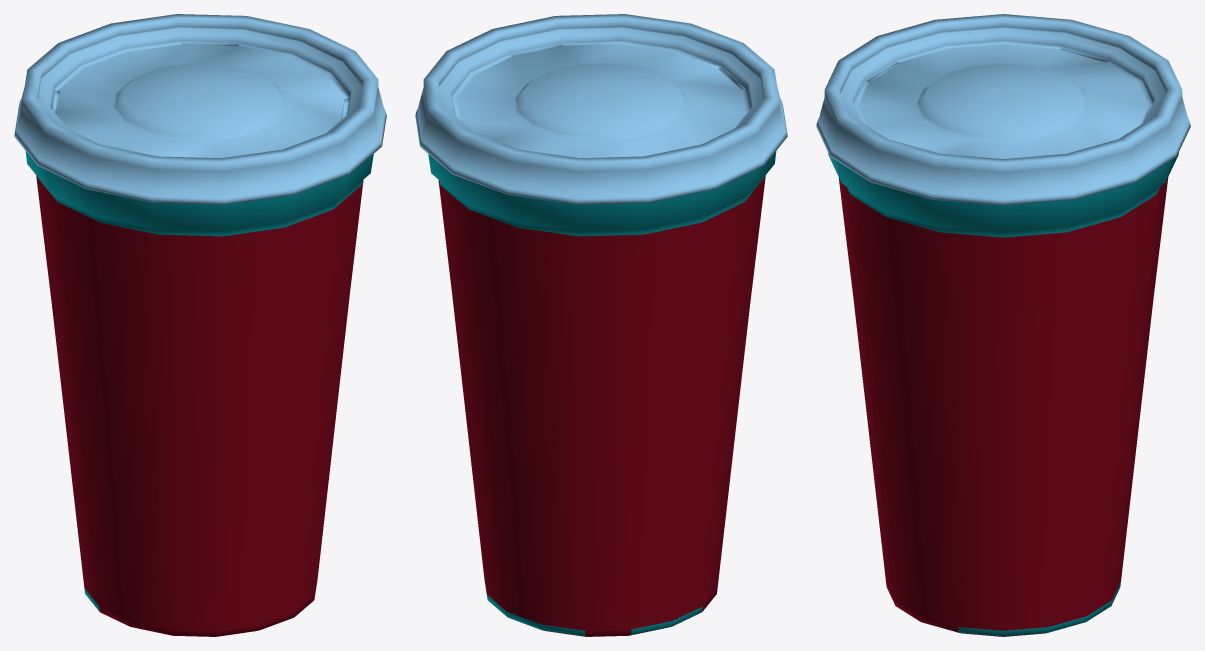
File: Mesh_CoffeeCup.fbx
3 views of the same model, side by side, from view 1: azimuth 30°, elevation 25°; view 2: azimuth 150°, elevation 25°; view 3: azimuth 270°, elevation 25° (orthographic).
Visible parts, largest first — view 1: SodaCup_mid, SodaCup Lid.001; view 2: SodaCup_mid, SodaCup Lid.001; view 3: SodaCup_mid, SodaCup Lid.001.
Boxes of the visible parts, <box> form: SodaCup_mid: <box>25,151,373,636</box>; SodaCup Lid.001: <box>14,14,386,204</box>; SodaCup_mid: <box>428,151,776,636</box>; SodaCup Lid.001: <box>415,14,787,204</box>; SodaCup_mid: <box>828,152,1178,636</box>; SodaCup Lid.001: <box>816,14,1190,205</box>.
Bounding box in the file's own units: 13.3 × 19.61 × 13.3.
